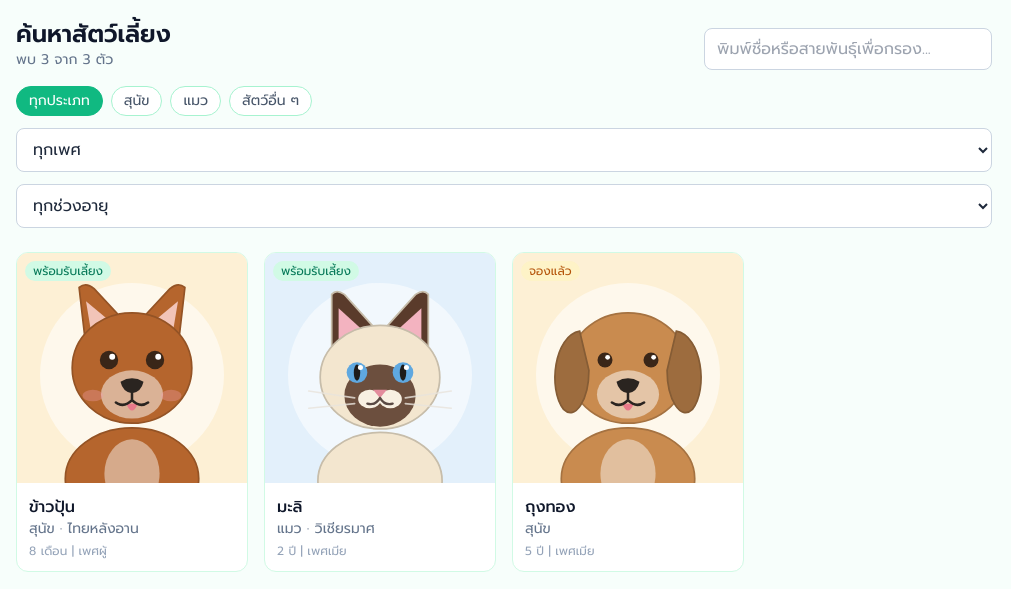
Test: พิมพ์ค้นหา ต้องกรองในเครื่องโดยไม่เรียก backend ซ้ำ
Expected: the heading "ข้าวปุ้น" is shown, left=29, top=495, right=75, bottom=519
Type "มะลิ" into the field with placeholder "พิมพ์ชื่อหรือสายพันธุ์เพื่อกรอง..." at coordinates (848, 49), box left=704, top=28, right=992, bottom=70
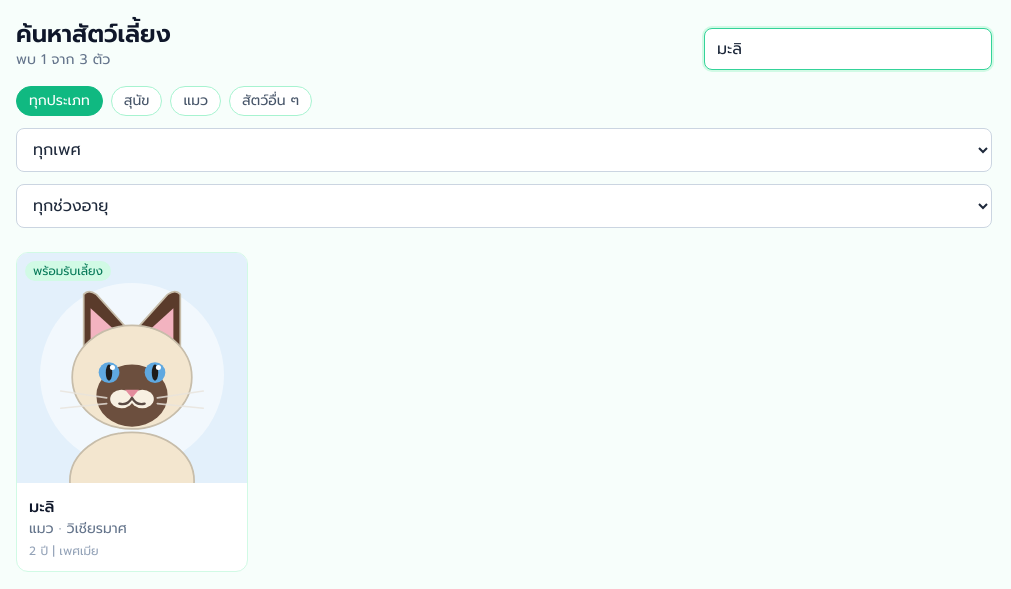
Expected: the heading "มะลิ" is shown, left=29, top=495, right=54, bottom=519
Expected: the link "ข้าวปุ้น" is gone
